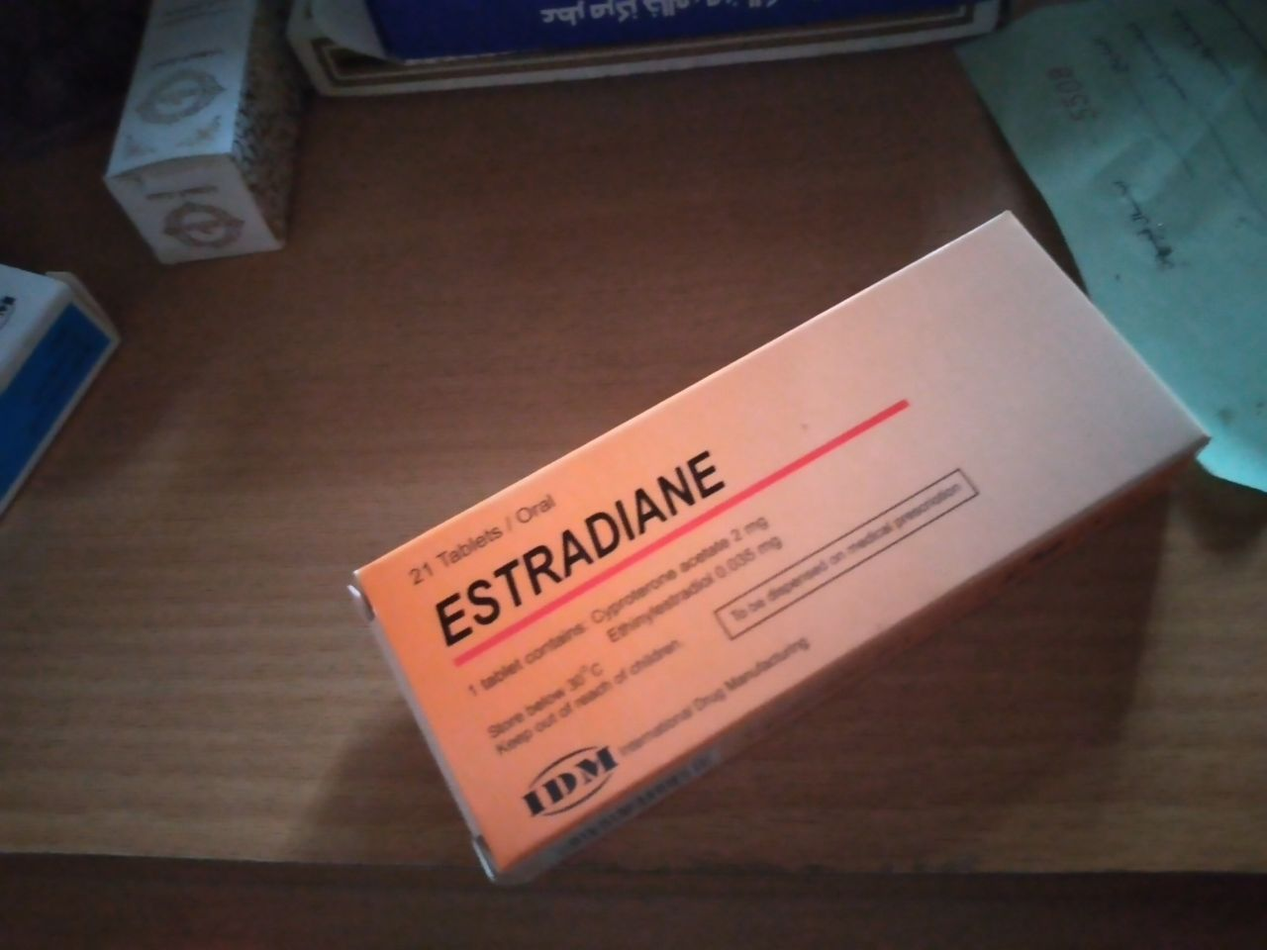Medicine: (309, 190, 1225, 883)
